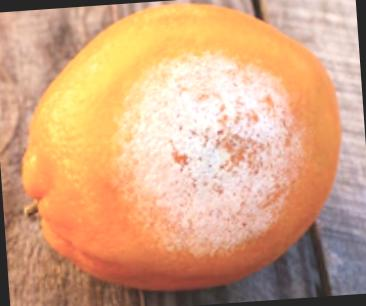Orange Rotten: (1, 0, 356, 302)
